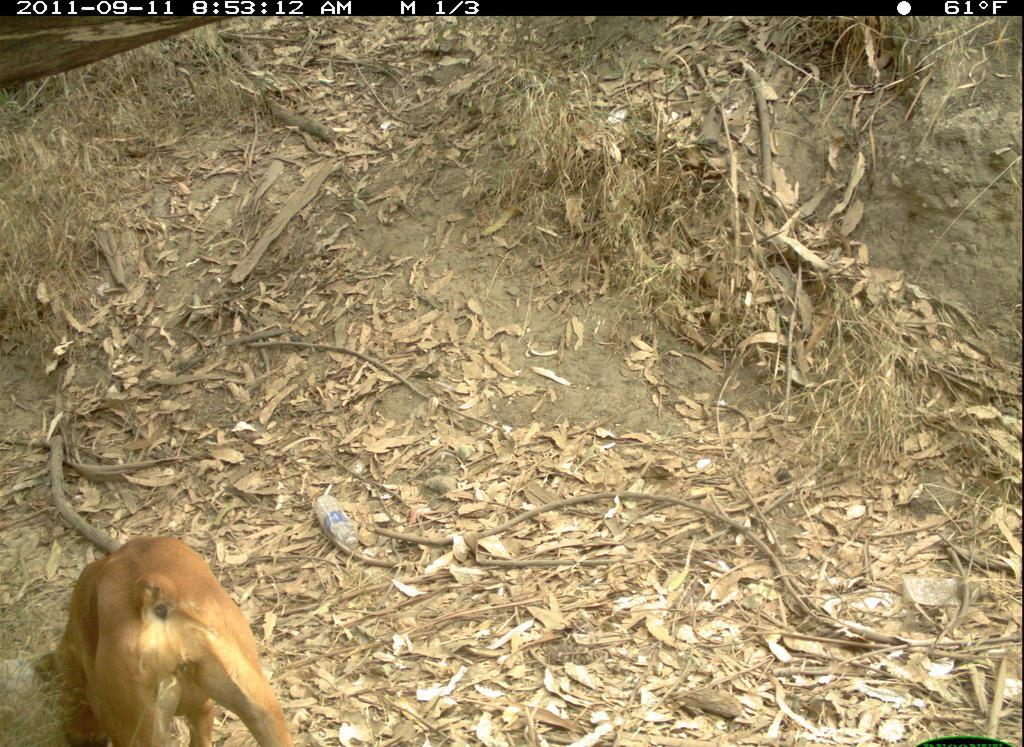dog: (38, 532, 296, 745)
